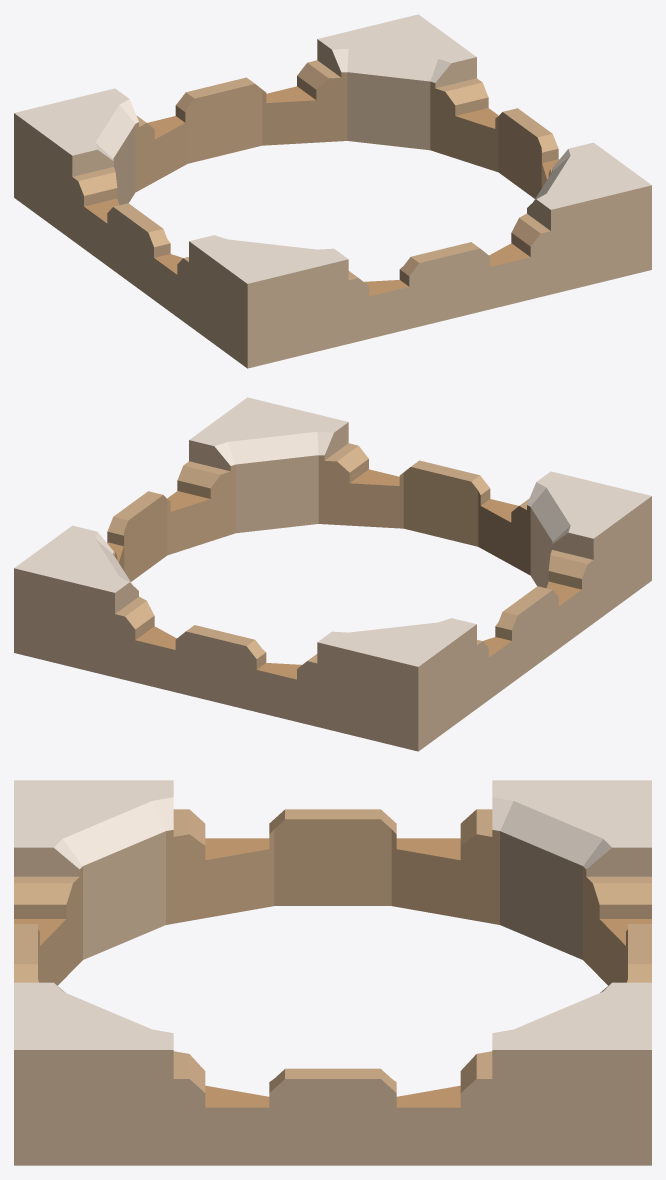
The model's file is Puzzle_Track_Rotating_Housing_Cross.fbx.
The picture shows the model from 3 angles, top to bottom: view 1: azimuth 30°, elevation 25°; view 2: azimuth 150°, elevation 25°; view 3: azimuth 270°, elevation 25°; orthographic projection. The views are drawn at different scales.
Parts seen in each view (by area): view 1: Sandstone_Trim.Sandstone_Trim.Sandstone_Trim.Sandstone_Trim., Sandstone_4.Sandstone_4.Sandstone_4.Sandstone_4.Sandstone_4., Sandstone_Floor.Sandstone_Floor.Sandstone_Floor.Sandstone_Fl, Sandstone_5.Sandstone_5.Sandstone_5.Sandstone_5.Sandstone_5.; view 2: Sandstone_Trim.Sandstone_Trim.Sandstone_Trim.Sandstone_Trim., Sandstone_4.Sandstone_4.Sandstone_4.Sandstone_4.Sandstone_4., Sandstone_Floor.Sandstone_Floor.Sandstone_Floor.Sandstone_Fl, Sandstone_5.Sandstone_5.Sandstone_5.Sandstone_5.Sandstone_5.; view 3: Sandstone_Trim.Sandstone_Trim.Sandstone_Trim.Sandstone_Trim., Sandstone_4.Sandstone_4.Sandstone_4.Sandstone_4.Sandstone_4., Sandstone_Floor.Sandstone_Floor.Sandstone_Floor.Sandstone_Fl, Sandstone_5.Sandstone_5.Sandstone_5.Sandstone_5.Sandstone_5..
Boxes of the visible parts, box(x1,y1,x2,y2) form: Sandstone_Trim.Sandstone_Trim.Sandstone_Trim.Sandstone_Trim.: box(14, 39, 651, 368); Sandstone_4.Sandstone_4.Sandstone_4.Sandstone_4.Sandstone_4.: box(73, 60, 558, 286); Sandstone_Floor.Sandstone_Floor.Sandstone_Floor.Sandstone_Fl: box(14, 14, 651, 283); Sandstone_5.Sandstone_5.Sandstone_5.Sandstone_5.Sandstone_5.: box(84, 86, 558, 296); Sandstone_Trim.Sandstone_Trim.Sandstone_Trim.Sandstone_Trim.: box(14, 422, 651, 751); Sandstone_4.Sandstone_4.Sandstone_4.Sandstone_4.Sandstone_4.: box(107, 443, 592, 669); Sandstone_Floor.Sandstone_Floor.Sandstone_Floor.Sandstone_Fl: box(14, 397, 651, 666); Sandstone_5.Sandstone_5.Sandstone_5.Sandstone_5.Sandstone_5.: box(107, 469, 581, 679); Sandstone_Trim.Sandstone_Trim.Sandstone_Trim.Sandstone_Trim.: box(14, 831, 651, 1165); Sandstone_4.Sandstone_4.Sandstone_4.Sandstone_4.Sandstone_4.: box(14, 809, 651, 1092); Sandstone_Floor.Sandstone_Floor.Sandstone_Floor.Sandstone_Fl: box(14, 780, 651, 1049); Sandstone_5.Sandstone_5.Sandstone_5.Sandstone_5.Sandstone_5.: box(14, 838, 651, 1107).
Size of the model in its own units: 1 by 0.2 by 1.
